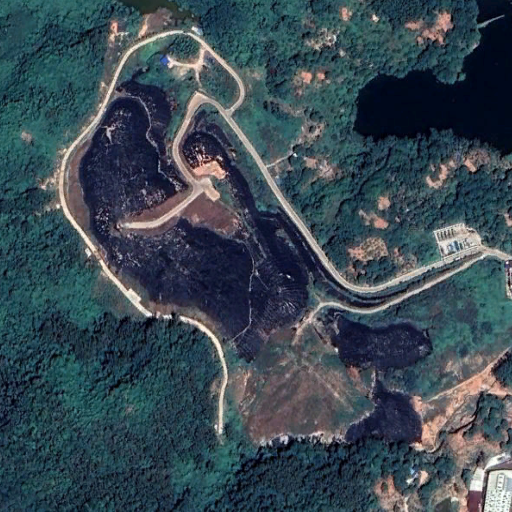lf: (80, 83, 432, 446)
